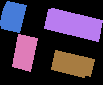parkingspot: (44, 8, 102, 41), (51, 50, 94, 77), (12, 34, 37, 71), (0, 1, 26, 32)
